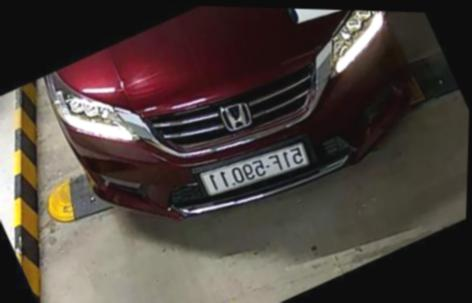License_Plate: (199, 130, 318, 208)
